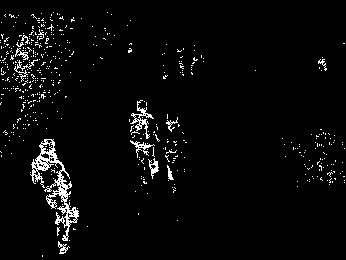person: (31, 139, 81, 256), (128, 99, 162, 184), (157, 113, 190, 193)
